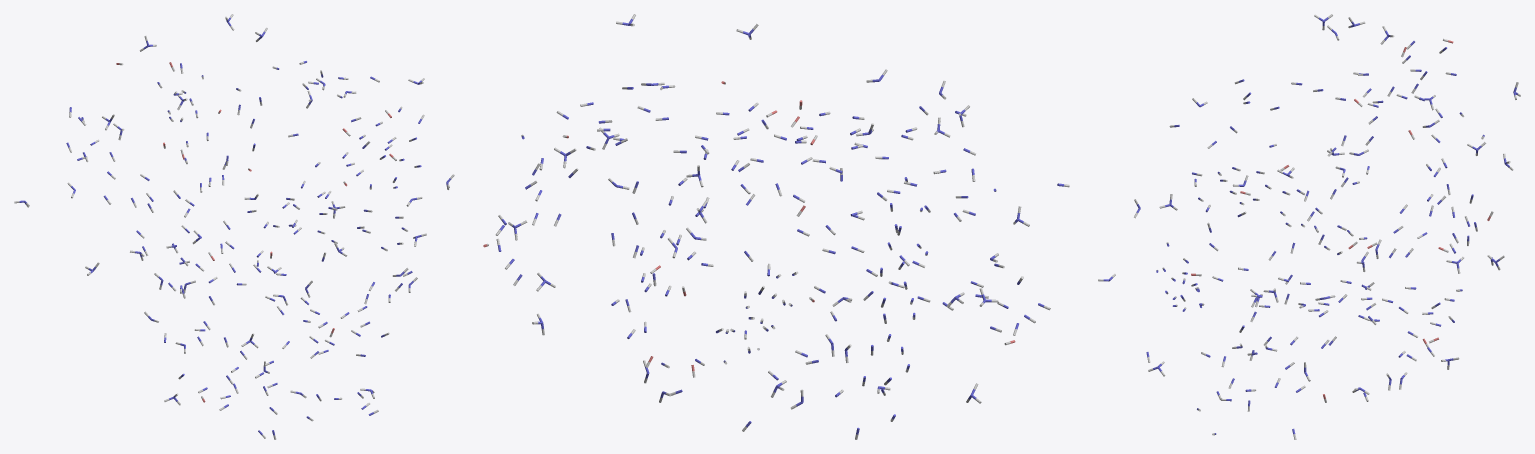
Rendered from 1mbn__sticks__default__H.glb.
3 renders of one model, left to right at view 1: azimuth 30°, elevation 25°; view 2: azimuth 150°, elevation 25°; view 3: azimuth 270°, elevation 25°, orthographic. The views are drawn at different scales.
Visible parts, largest first — view 1: Renderer Node; view 2: Renderer Node; view 3: Renderer Node.
Part boxes in pixels (x1,y1,x2,y2): Renderer Node: (14,14,454,439); Renderer Node: (483,14,1069,439); Renderer Node: (1098,14,1520,439).
Size of the model in its own units: 42.34 by 39.62 by 38.61.
